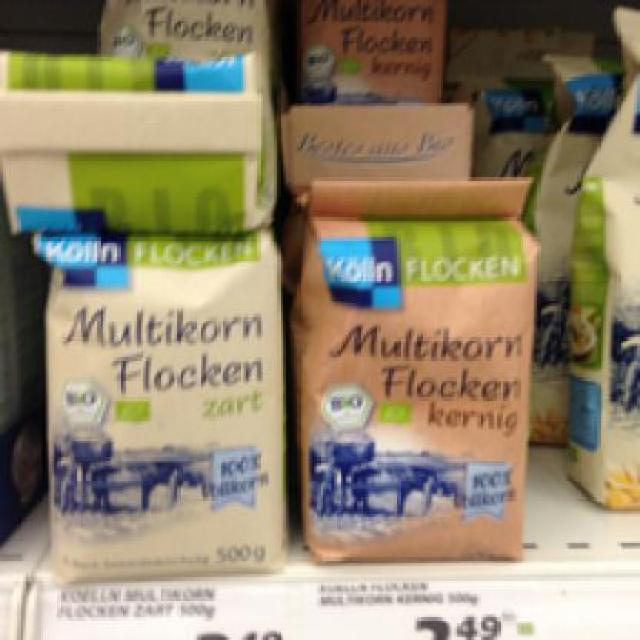Cereal: (294, 177, 543, 552), (20, 228, 286, 574), (297, 0, 446, 103)
